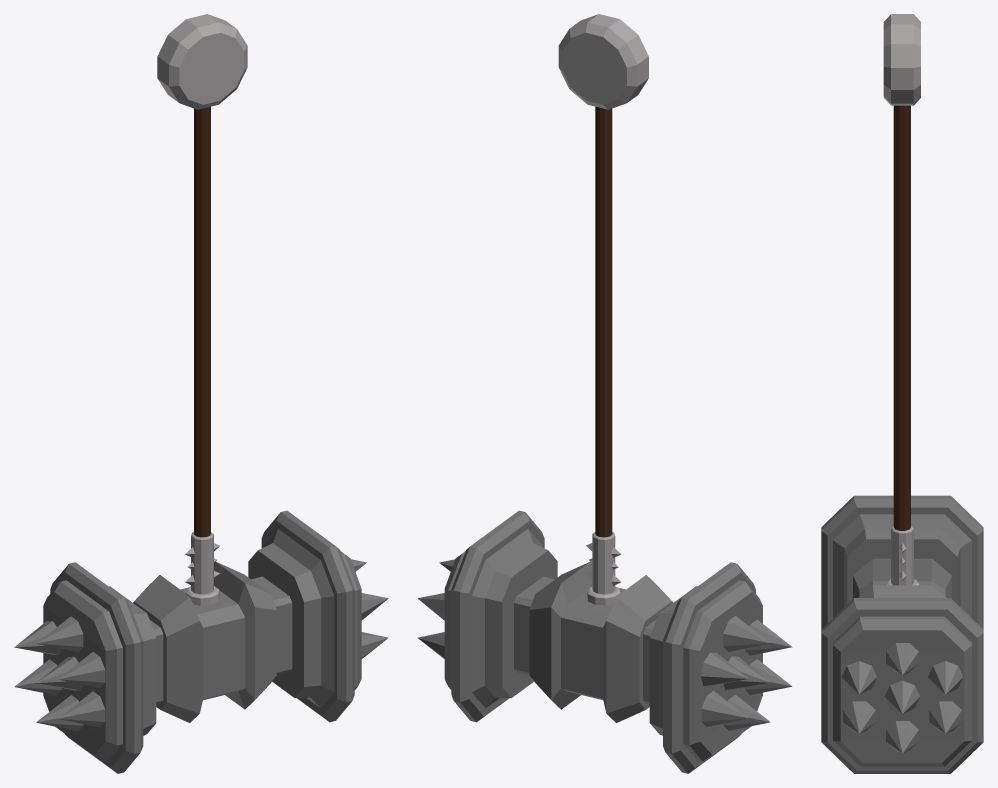
Rendered from StonePendulumTrap_9.fbx.
3 renders of one model, left to right at view 1: azimuth 30°, elevation 25°; view 2: azimuth 150°, elevation 25°; view 3: azimuth 270°, elevation 25°, orthographic.
Parts seen in each view (by area): view 1: StonePendulumTrap_9; view 2: StonePendulumTrap_9; view 3: StonePendulumTrap_9.
Boxes of the visible parts, x1=… form: StonePendulumTrap_9: x1=14, y1=14, x2=388, y2=773; StonePendulumTrap_9: x1=417, y1=14, x2=792, y2=773; StonePendulumTrap_9: x1=821, y1=14, x2=983, y2=773.
Size of the model in its own units: 159 by 326 by 68.32.
